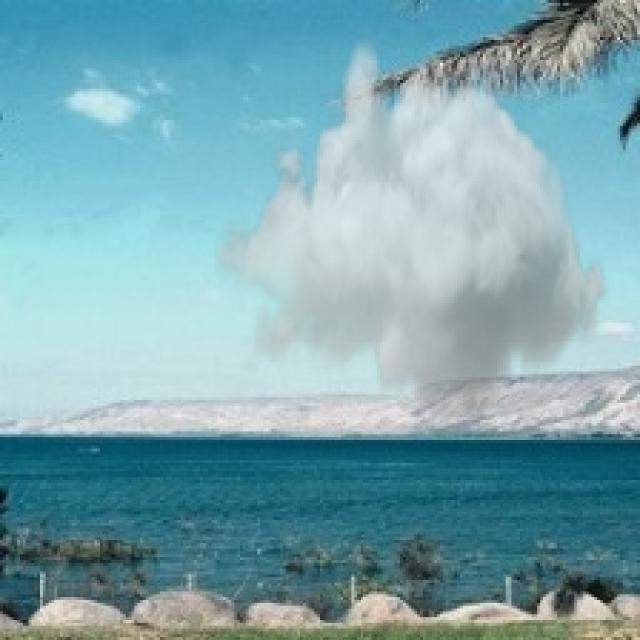smoke: (214, 34, 612, 434)
